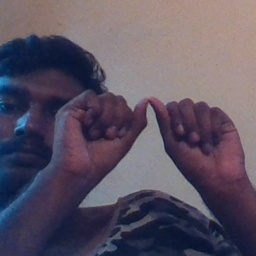A: (68, 85, 232, 173)
